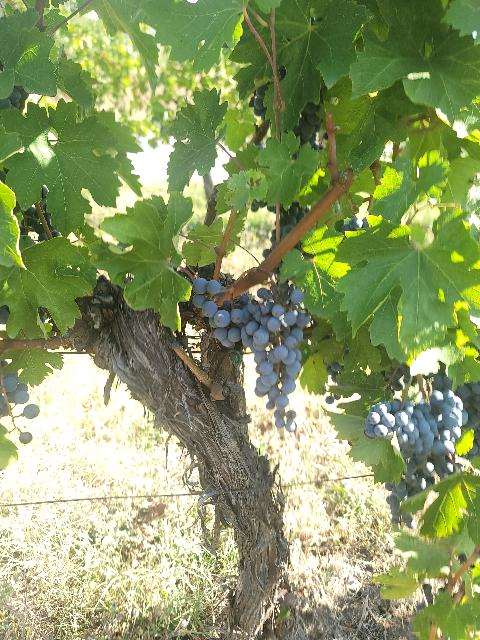grapes: (190, 266, 311, 431), (364, 375, 469, 522)
